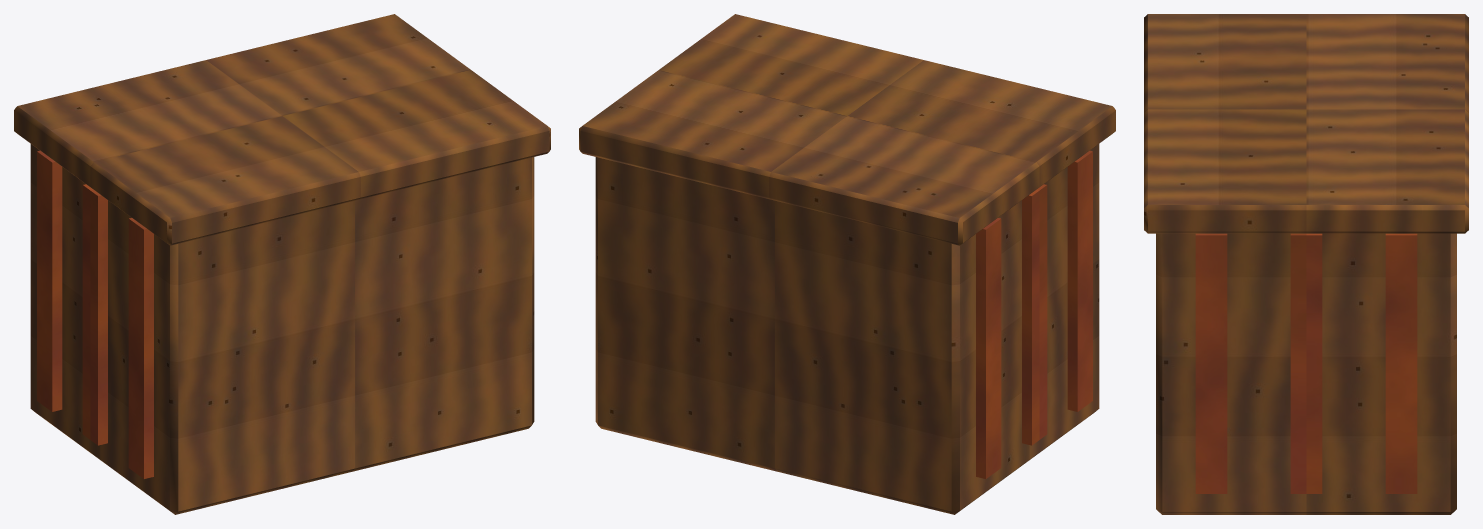
Rendered from prop_fish_crate.glb.
The picture shows the model from 3 angles, left to right: view 1: azimuth 30°, elevation 25°; view 2: azimuth 150°, elevation 25°; view 3: azimuth 270°, elevation 25°; orthographic projection. The views are drawn at different scales.
Visible parts, largest first — view 1: Wood, Rust; view 2: Wood, Rust; view 3: Wood, Rust.
Boxes of the visible parts, x1,y1,x2,y2 form: Wood: [14, 14, 550, 514]; Rust: [37, 150, 153, 478]; Wood: [579, 14, 1115, 514]; Rust: [976, 150, 1092, 478]; Wood: [1144, 14, 1468, 514]; Rust: [1195, 233, 1417, 493].
Size of the model in its own units: 0.58 by 0.44 by 0.41.
3 materials, 2 textured.
